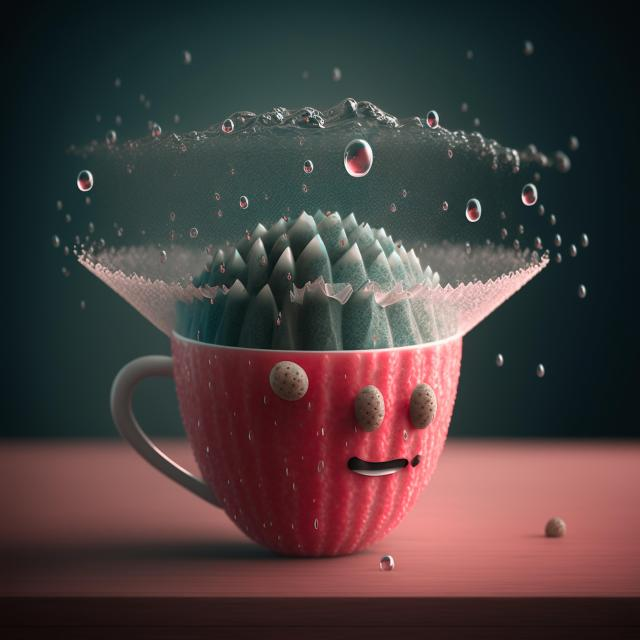Red_cup: (111, 333, 461, 556)
